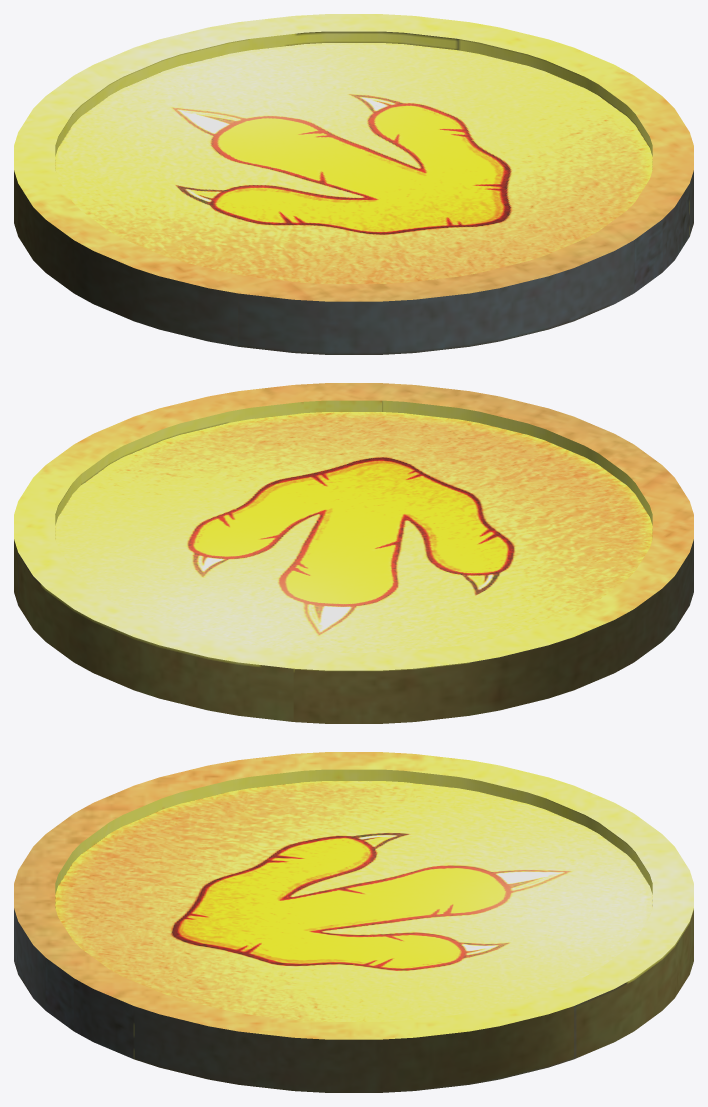
File: IconGold.fbx
3 renders of one model, top to bottom at view 1: azimuth 30°, elevation 25°; view 2: azimuth 150°, elevation 25°; view 3: azimuth 270°, elevation 25°, orthographic.
Parts seen in each view (by area): view 1: HUAN; view 2: HUAN; view 3: HUAN.
Boxes of the visible parts, <box> form: HUAN: <box>14,14,693,354</box>; HUAN: <box>14,383,693,723</box>; HUAN: <box>14,752,693,1092</box>.
Size of the model in its own units: 1.98 by 0.1712 by 1.98.
Materials: 1 (1 with a texture image).
